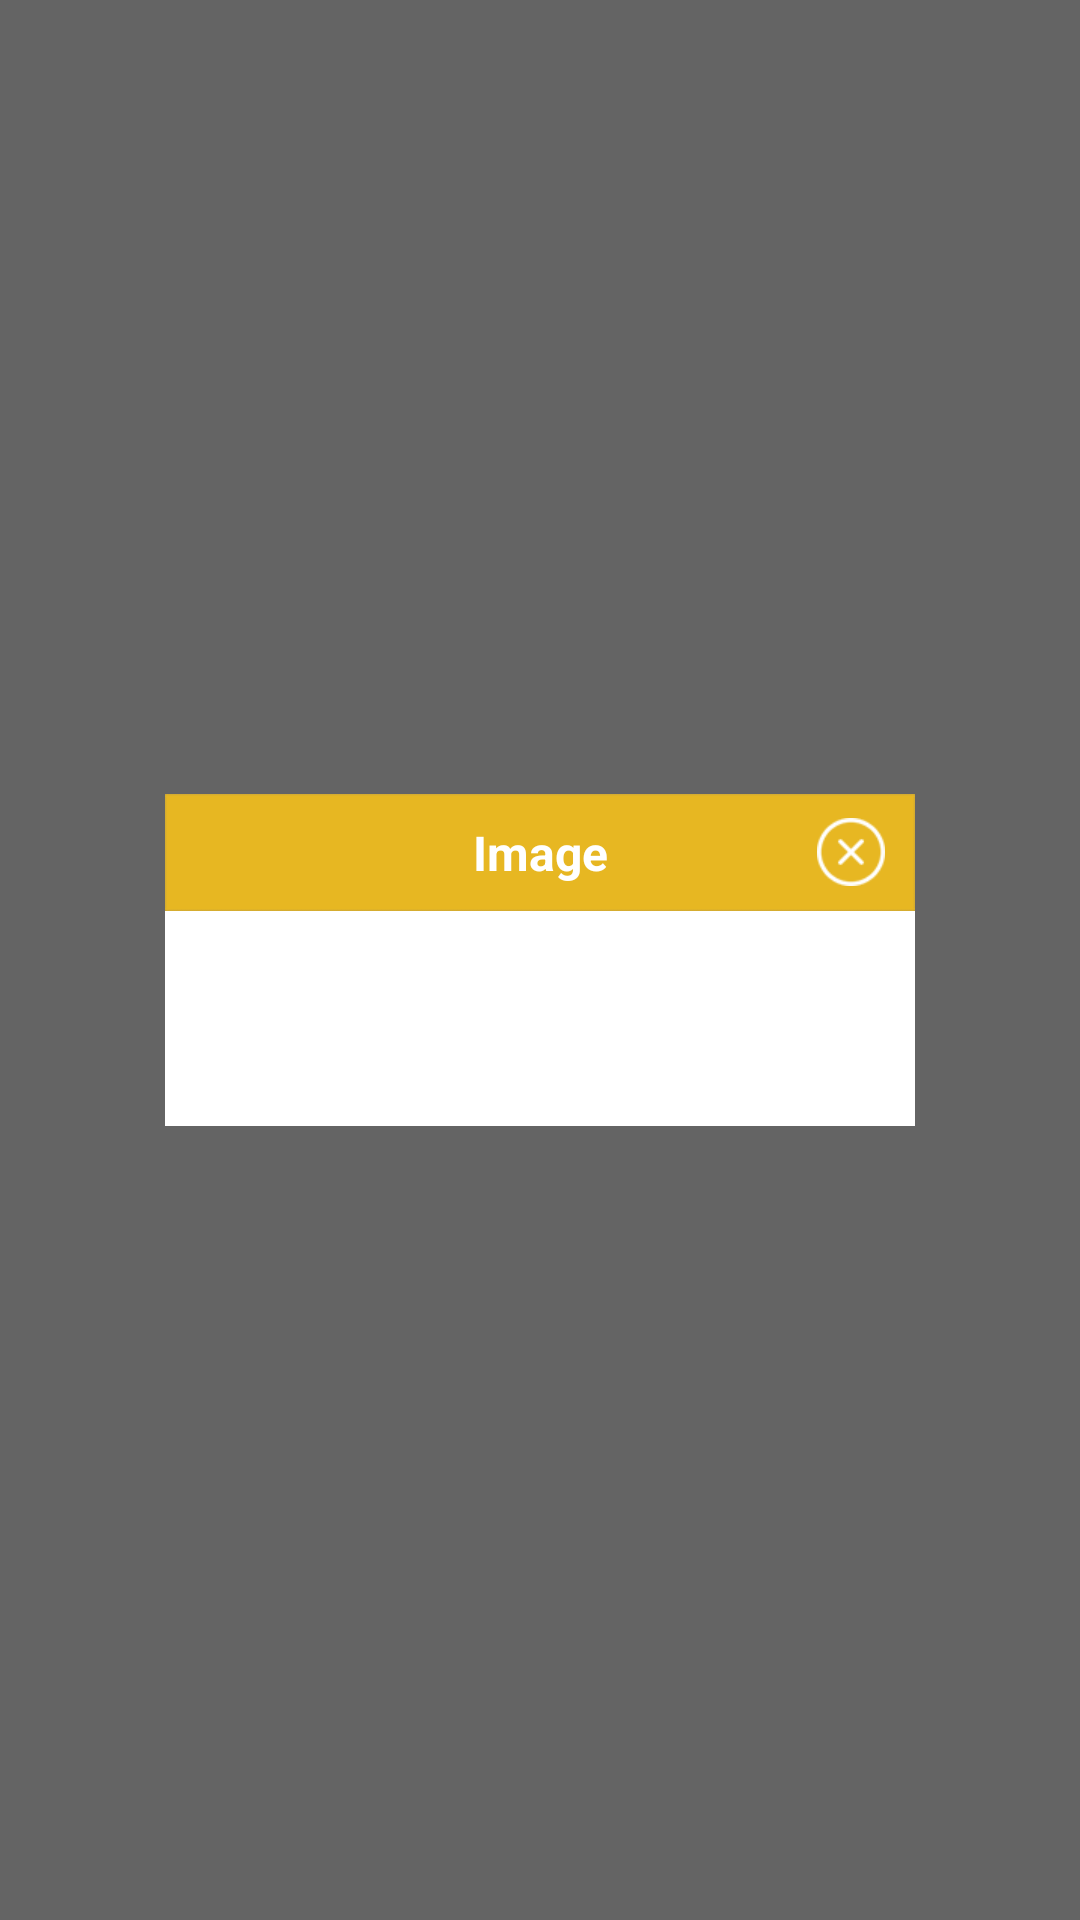

Screen size 1080×1920. Icon name, then its box in pixels as (x1, y1, x2, y2):
close: (817, 818, 885, 886)
